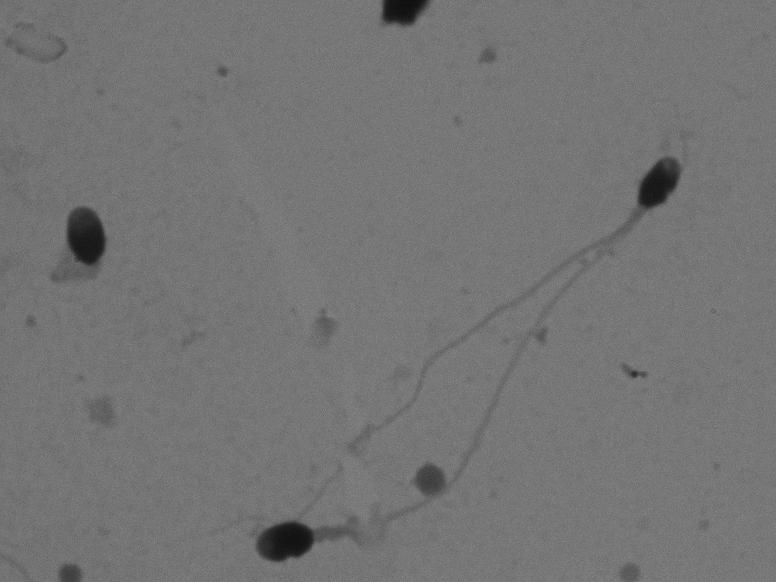Abnormal: (264, 103, 700, 518), (232, 254, 634, 567)
